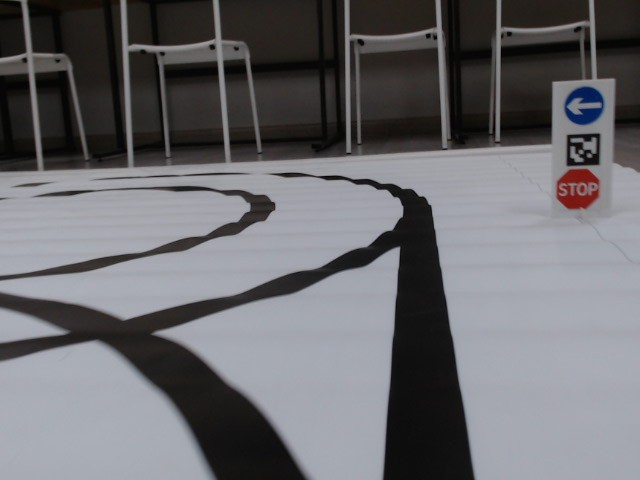Stop: (556, 168, 600, 207)
